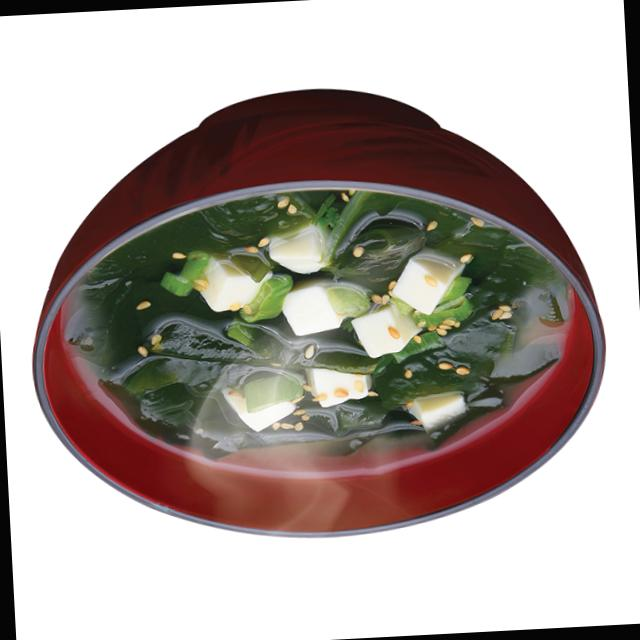canh rong bien: (65, 191, 569, 468)
